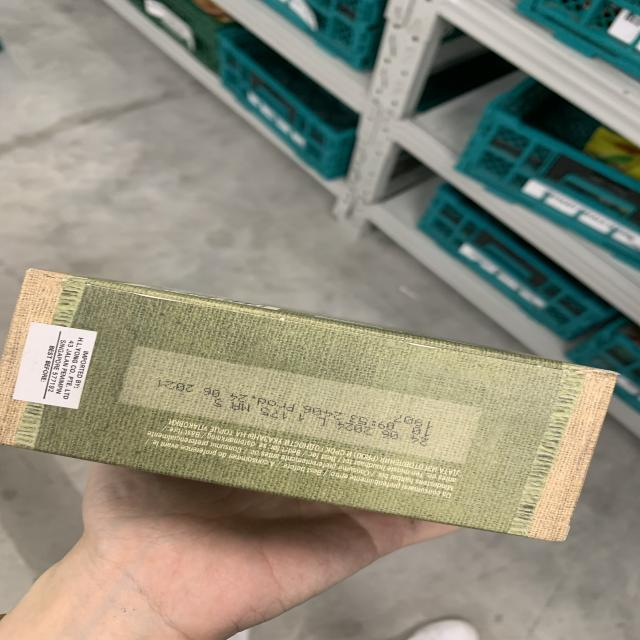object_name: (8, 275, 602, 557)
